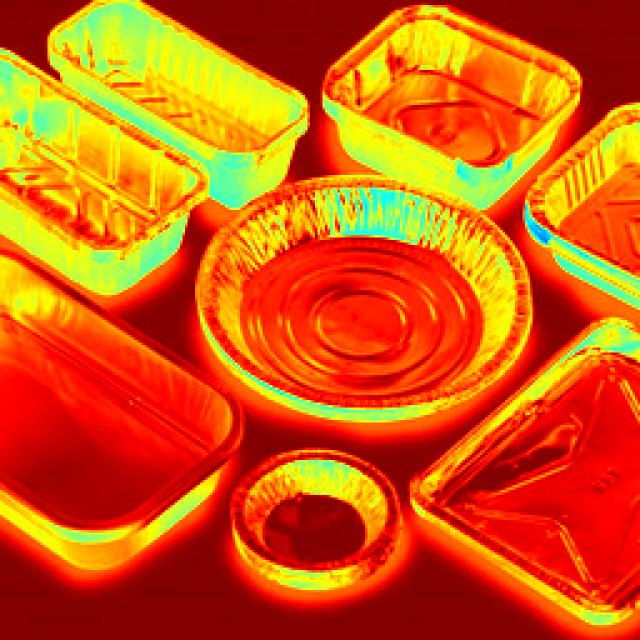Aluminium Food Cans: (210, 178, 518, 426), (0, 240, 220, 575), (438, 350, 640, 606), (4, 57, 223, 264), (312, 23, 567, 199), (91, 17, 285, 162), (520, 112, 640, 276), (240, 444, 370, 573)
